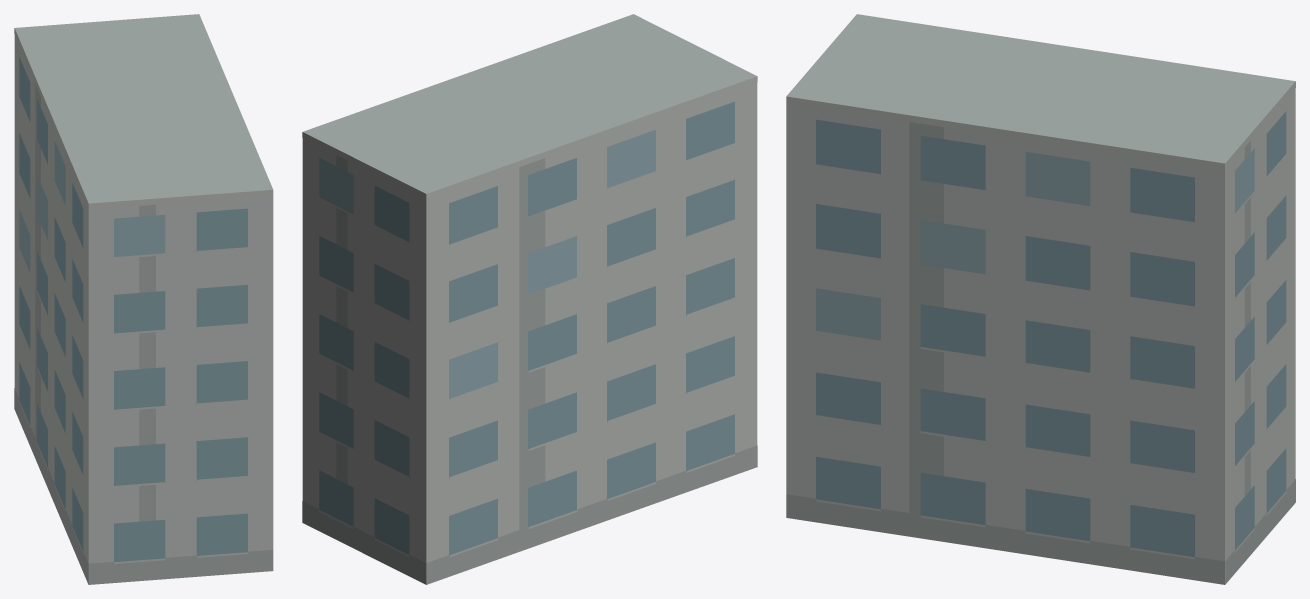
Rendered from residential-edf905c2-ba40-43bf-8bad-0ac08222e4f9.glb.
3 renders of one model, left to right at view 1: azimuth 30°, elevation 25°; view 2: azimuth 150°, elevation 25°; view 3: azimuth 270°, elevation 25°, orthographic. The views are drawn at different scales.
Visible parts, largest first — view 1: residential-edf905c2-ba40-43bf-8bad-0ac08222e4f9.tmp; view 2: residential-edf905c2-ba40-43bf-8bad-0ac08222e4f9.tmp; view 3: residential-edf905c2-ba40-43bf-8bad-0ac08222e4f9.tmp.
Boxes of the visible parts, box(x1,y1,x2,y2) form: residential-edf905c2-ba40-43bf-8bad-0ac08222e4f9.tmp: box(14, 14, 273, 584); residential-edf905c2-ba40-43bf-8bad-0ac08222e4f9.tmp: box(302, 14, 757, 584); residential-edf905c2-ba40-43bf-8bad-0ac08222e4f9.tmp: box(786, 14, 1295, 584).
Size of the model in its own units: 11.61 by 15.25 by 16.72.
